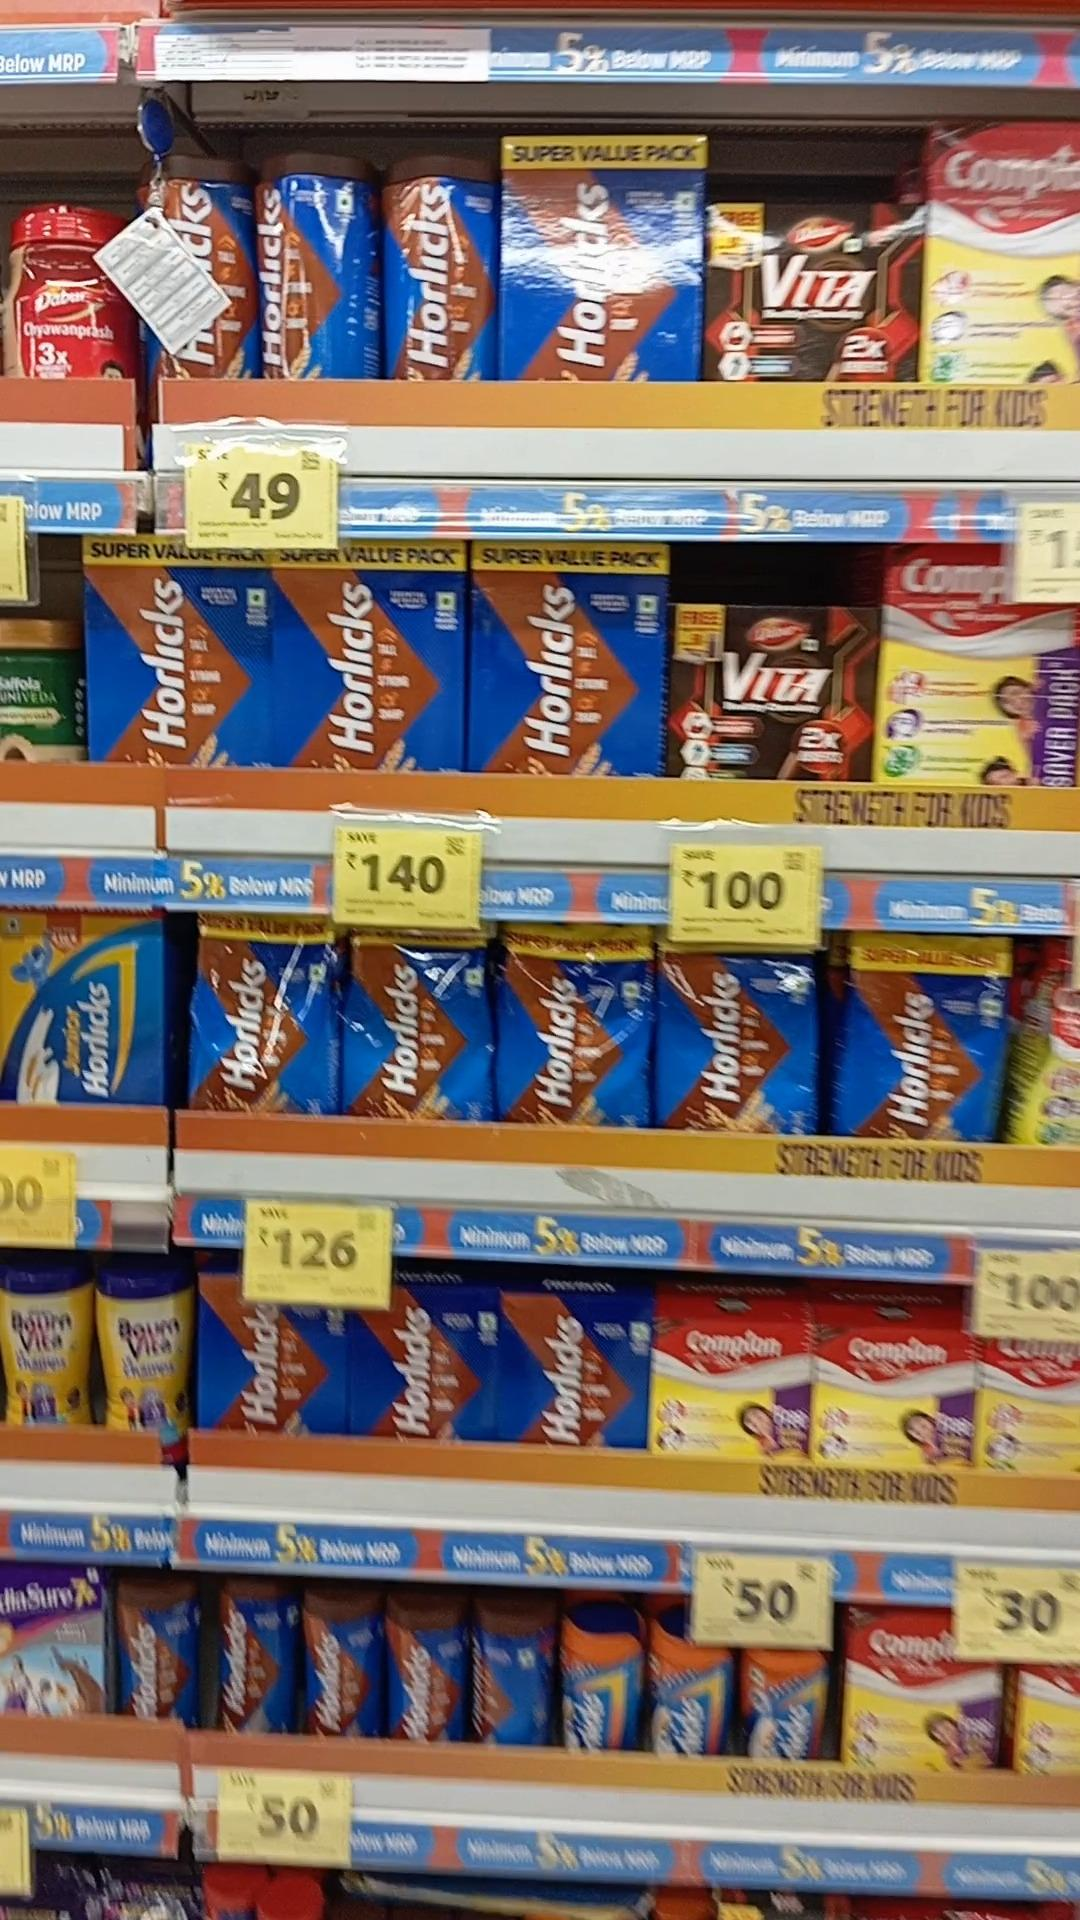BOURN_VITA_CHAMPS_500_G_JAR: (99, 1270, 195, 1448), (0, 1263, 88, 1427)
COMPLAN_CHOCOLATE_1_KG_PACK: (881, 545, 1080, 782), (922, 123, 1079, 388)
COMPLAN_CHOCOLATE_500_GMS_PACK: (844, 1607, 998, 1767), (814, 1320, 976, 1468), (653, 1317, 807, 1456)
HORLICK_CHOCOLATE_1_KG_JAR: (382, 153, 493, 378), (256, 150, 359, 381), (148, 157, 252, 384)
HORLICK_CHOCOLATE_1_KG_PACK: (505, 140, 702, 381), (475, 542, 663, 775), (84, 533, 266, 770), (280, 550, 456, 770)
HORLICK_CHOCOLATE_500_G_JAR: (112, 1580, 200, 1722), (306, 1589, 377, 1735), (386, 1598, 458, 1743), (463, 1593, 531, 1743), (215, 1576, 280, 1734)
HORLICK_CHOCOLATE_500_G_PACK: (501, 1292, 647, 1451), (204, 1271, 339, 1436), (355, 1283, 489, 1441)
HORLICK_CHOCOLATE_750_G_POUCH: (847, 926, 1002, 1142), (498, 919, 645, 1126), (181, 915, 326, 1113), (342, 926, 485, 1122), (667, 938, 808, 1127)
HORLICK_CLASSIC_MALT_500_G_JAR: (558, 1609, 633, 1753), (645, 1610, 716, 1759), (738, 1646, 820, 1766)
PEDIASURE_7_PLUS_CHOCOLATE_400_G_PACK: (0, 1567, 102, 1720)
